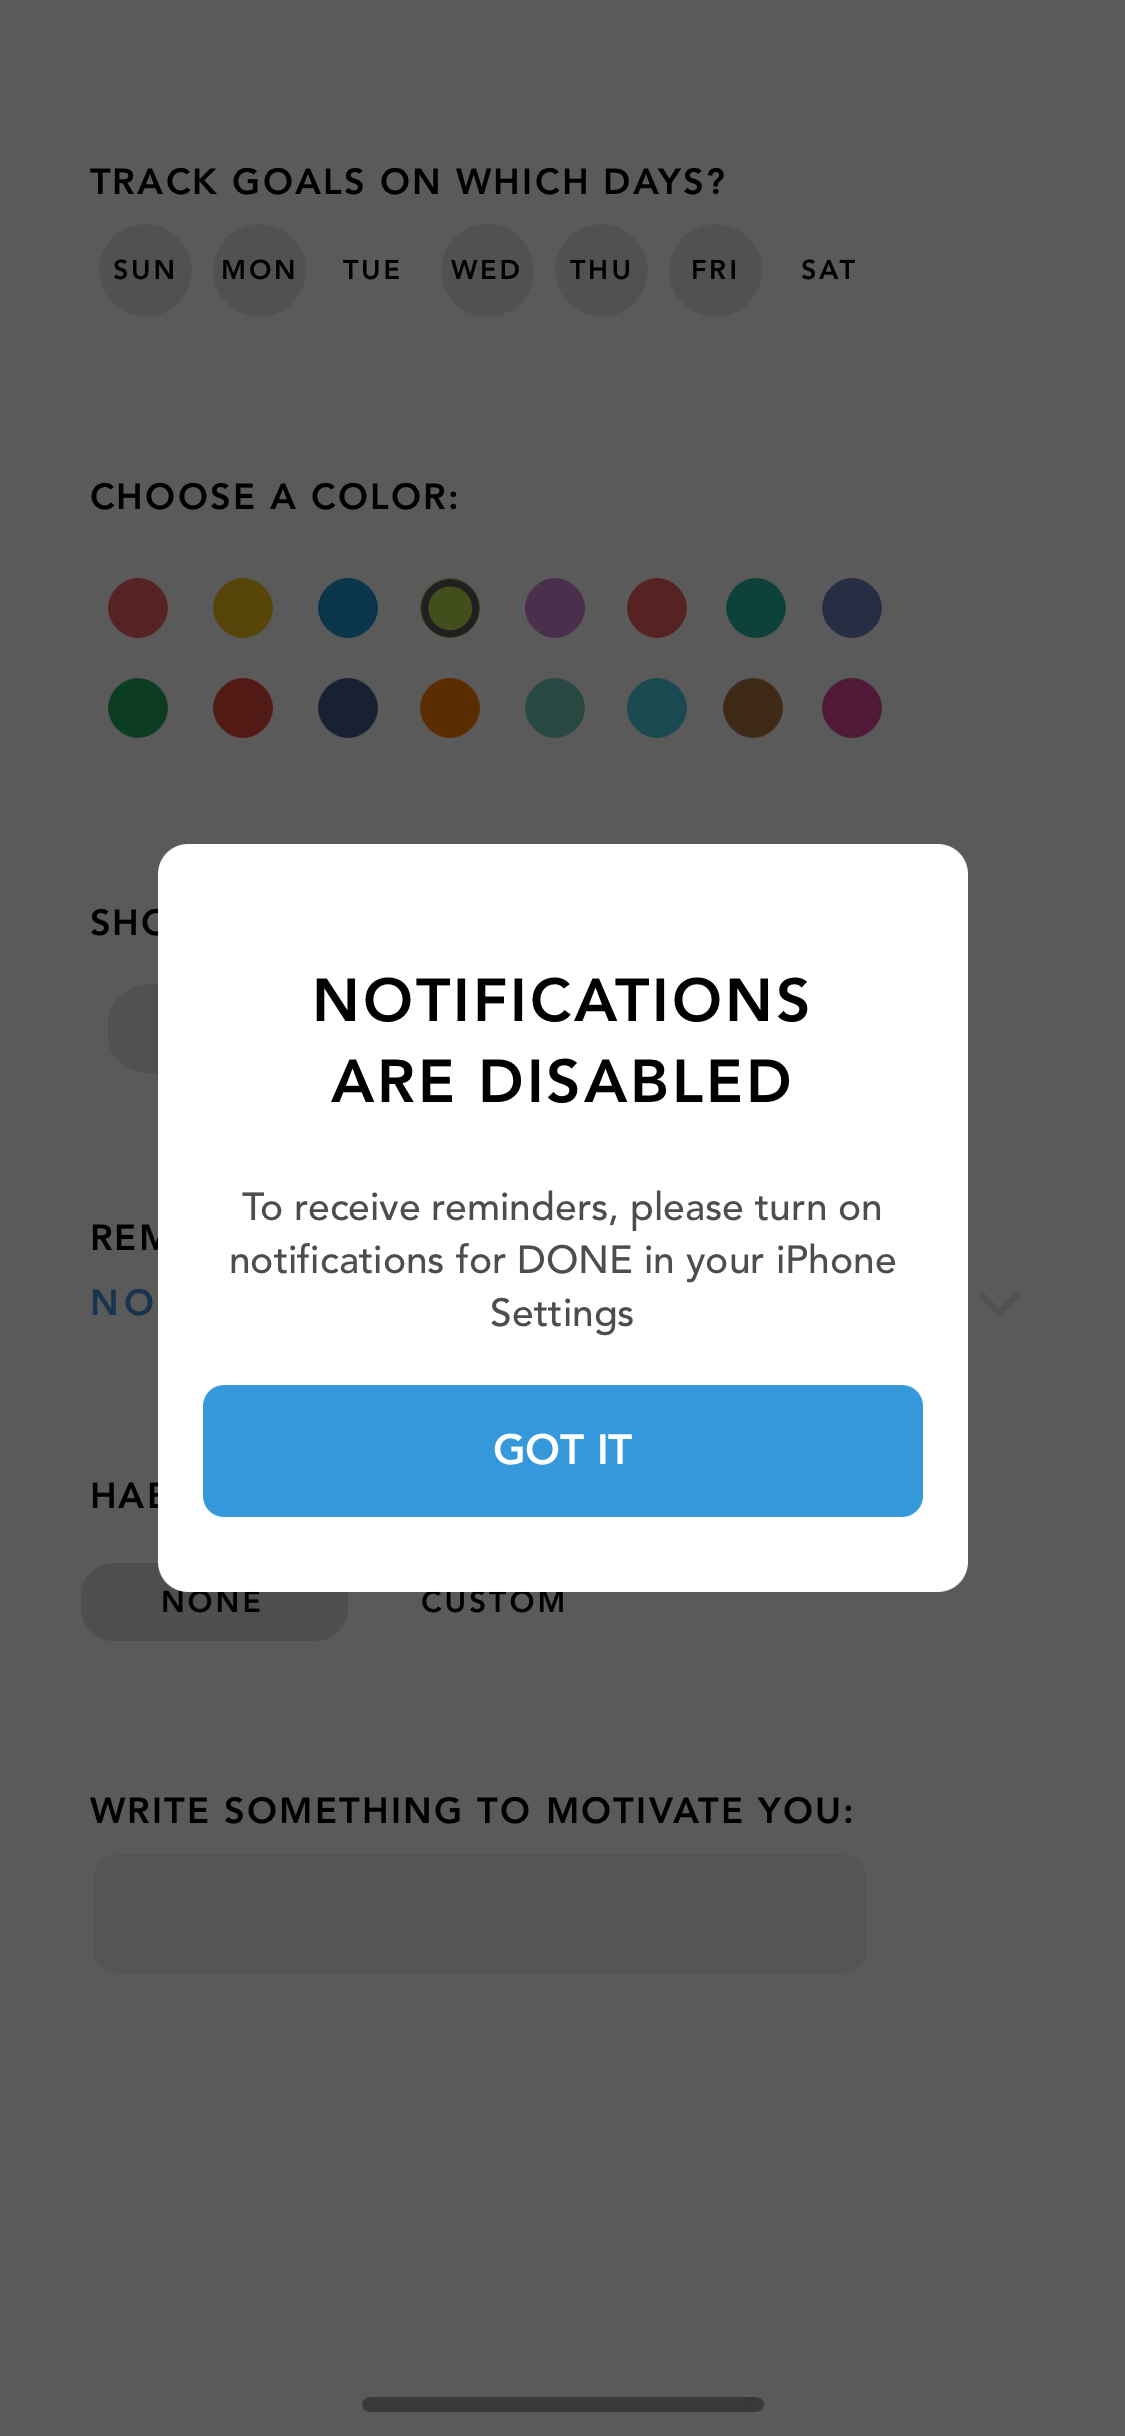Buttons: (194, 1367, 939, 1533)
Text Fields: (76, 1763, 911, 2009)
